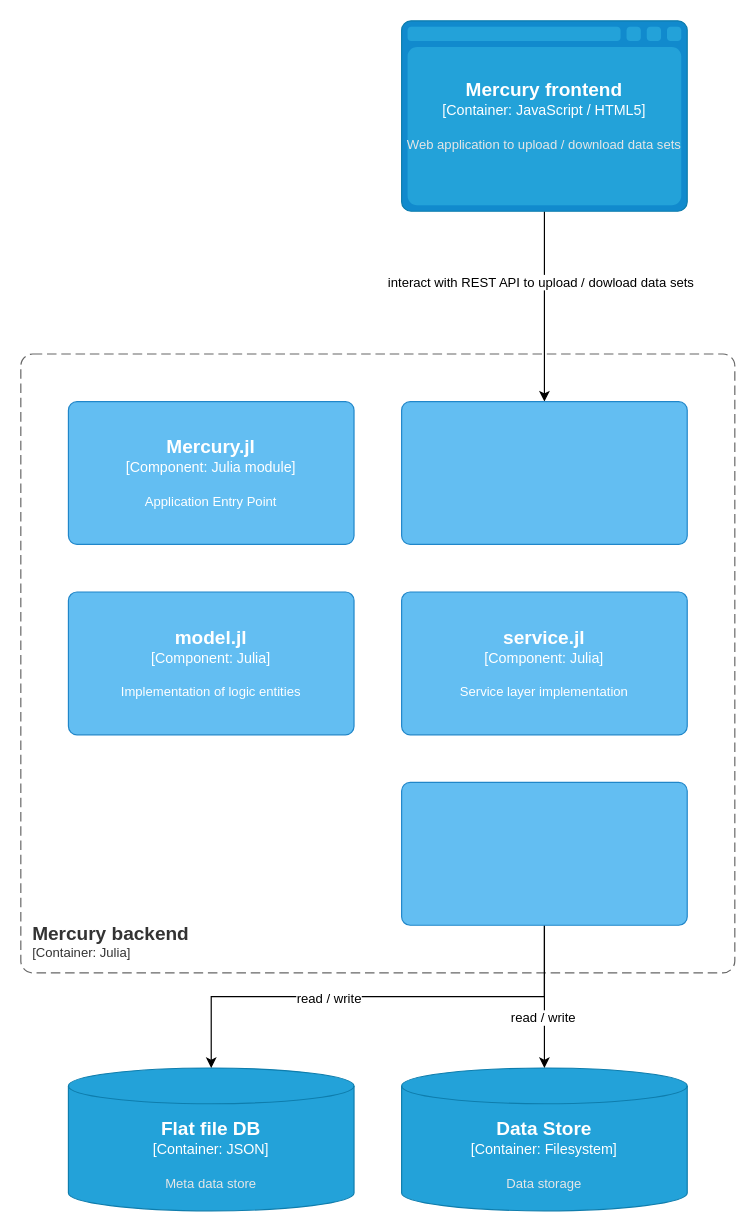
The diagram is 756 pixels wide and 1232 high, and some of its shapes have lost their labels. The shapes that lost their labels are listed below. From the top down, each one's centre as x and y in pixels, then its label:
At pixel 543 472: "api.jl [Component: Julia] REST like API".
At pixel 543 853: "persistence.jl [Component: Julia] Persistent data access functions".
